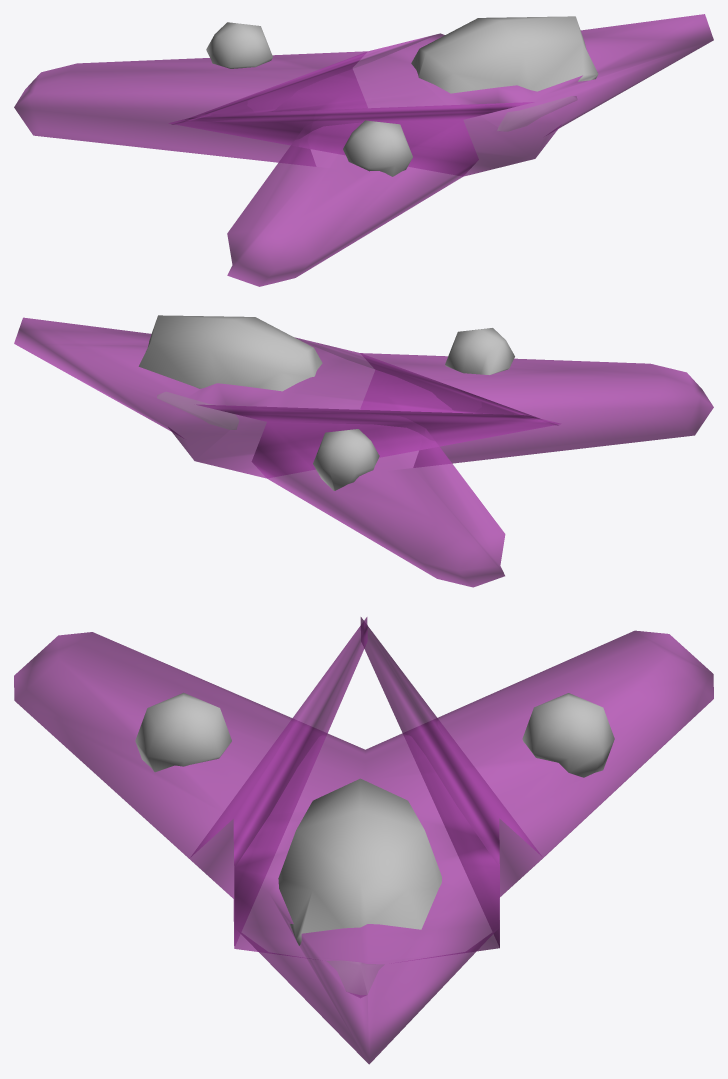
Rendered from note4.fbx.
The picture shows the model from 3 angles, top to bottom: view 1: azimuth 30°, elevation 25°; view 2: azimuth 150°, elevation 25°; view 3: azimuth 270°, elevation 25°; orthographic projection. The views are drawn at different scales.
Visible parts, largest first — view 1: polySurface19; view 2: polySurface19; view 3: polySurface19.
Part boxes in pixels (x1,y1,x2,y2): polySurface19: (14,14,713,286); polySurface19: (14,315,713,587); polySurface19: (14,617,713,1064).
Size of the model in its own units: 4.83 by 0.8727 by 3.49.
